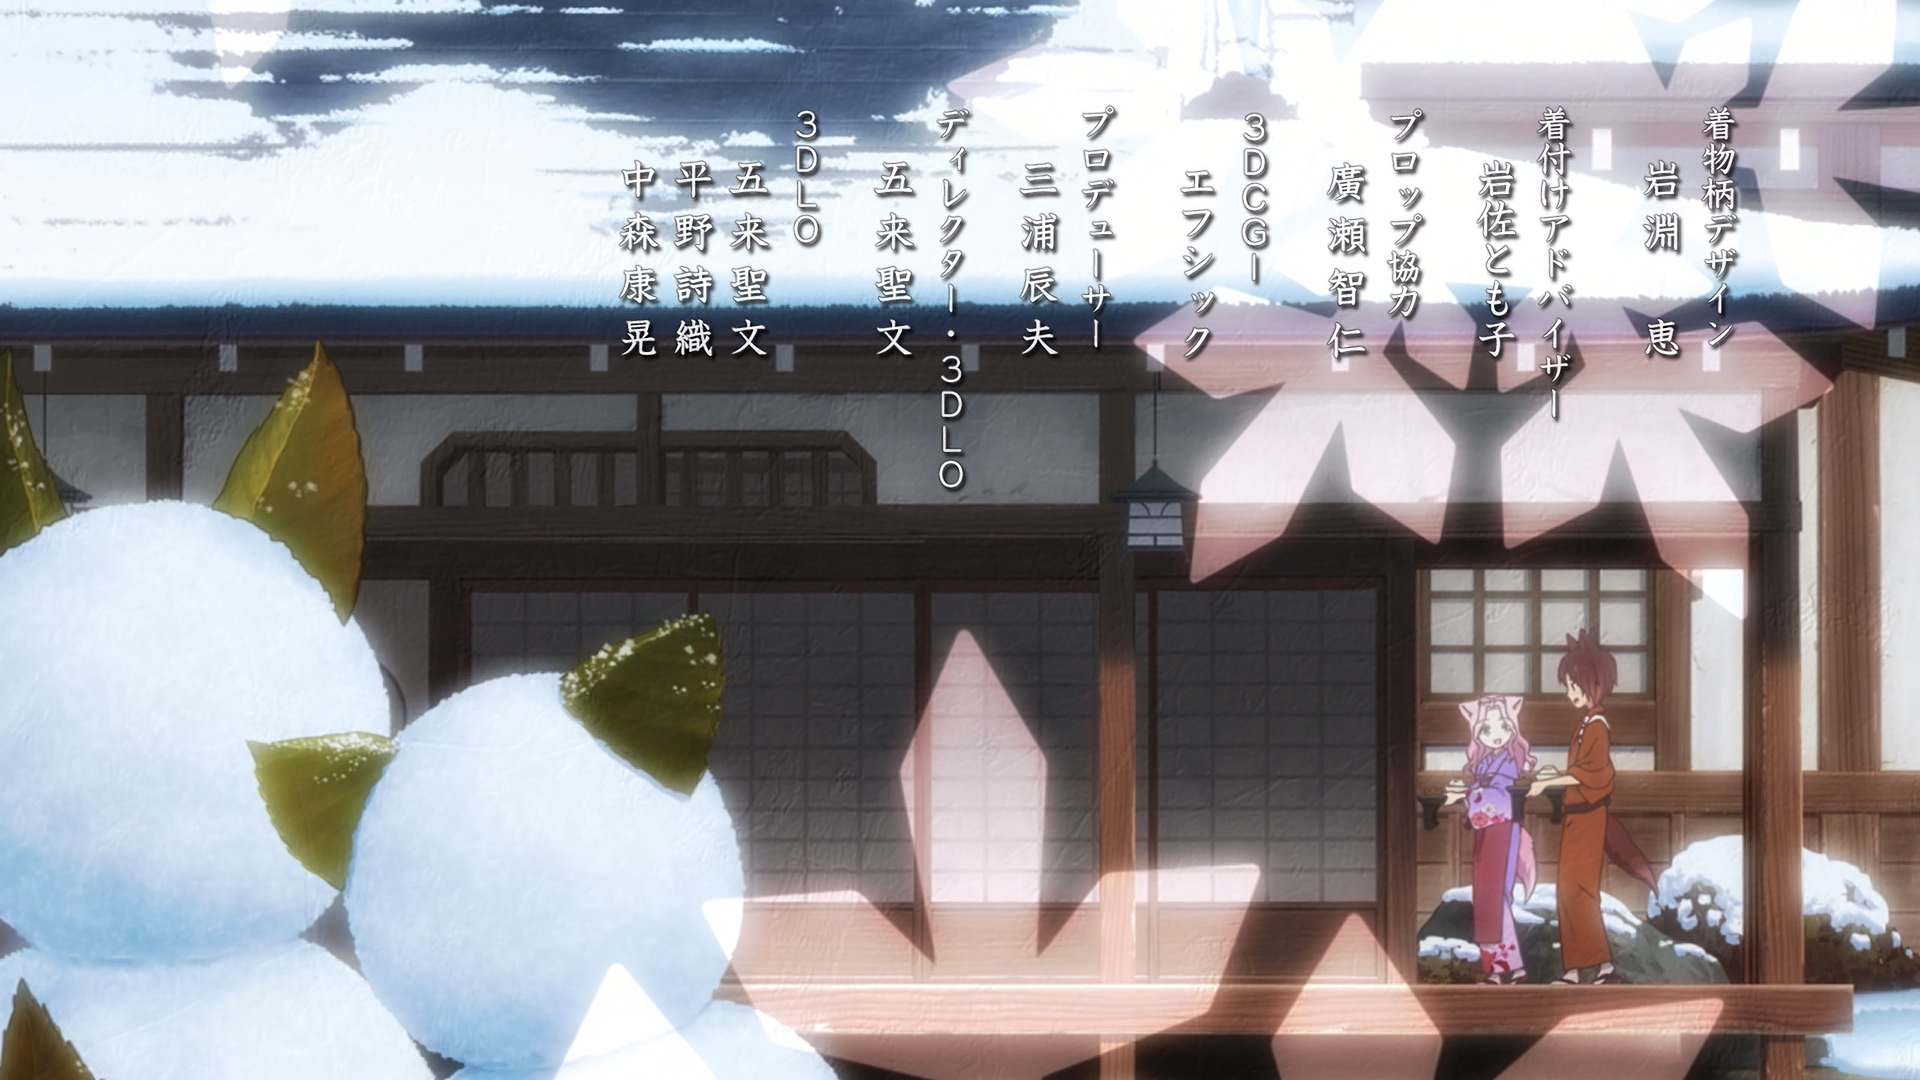枣: (1527, 632, 1659, 985)
莲: (1443, 698, 1538, 986)
